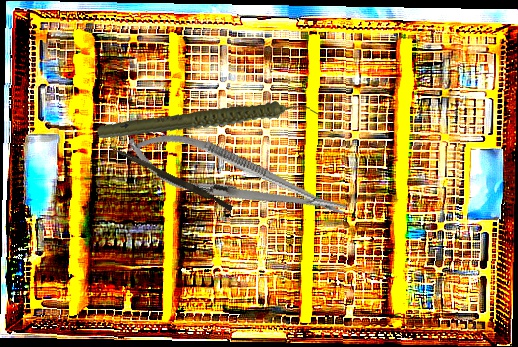Handpiece: (95, 78, 319, 166)
Needle Holder: (118, 118, 355, 239)
Pusher: (108, 145, 235, 212)
